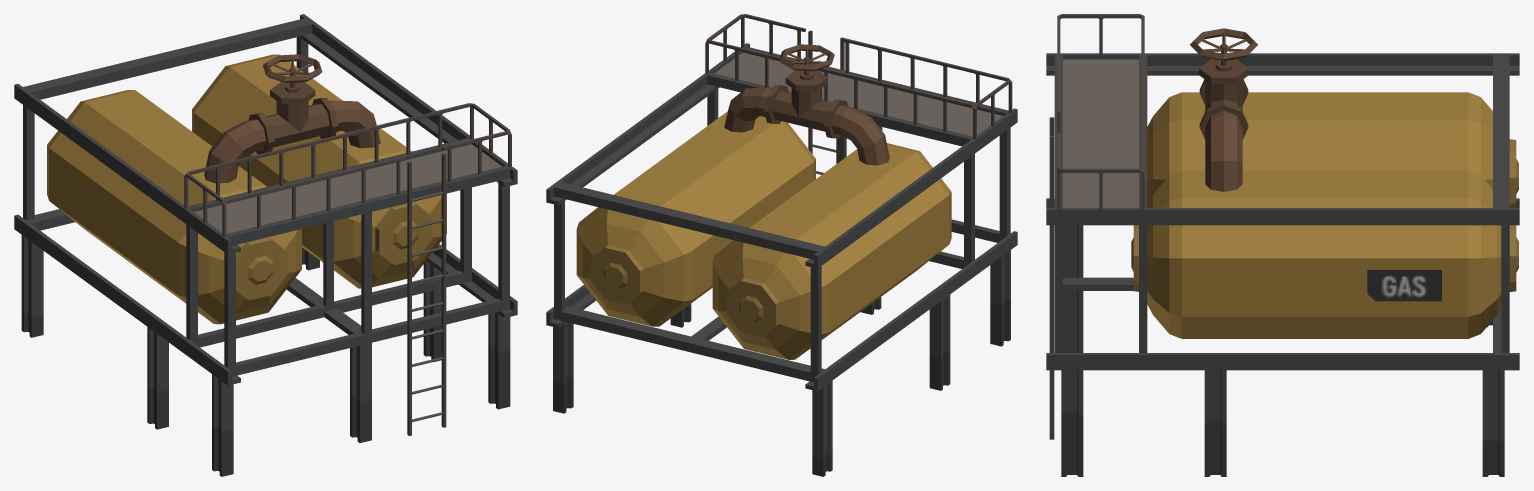
File: SM_Props_Industrial_GasTank_05.fbx
The picture shows the model from 3 angles, left to right: view 1: azimuth 30°, elevation 25°; view 2: azimuth 150°, elevation 25°; view 3: azimuth 270°, elevation 25°; orthographic projection. The views are drawn at different scales.
Parts seen in each view (by area): view 1: SM_Props_Industrial_GasTank_05; view 2: SM_Props_Industrial_GasTank_05; view 3: SM_Props_Industrial_GasTank_05.
Part boxes in pixels (x1,y1,x2,y2): SM_Props_Industrial_GasTank_05: (14, 14, 517, 476); SM_Props_Industrial_GasTank_05: (546, 14, 1017, 476); SM_Props_Industrial_GasTank_05: (1046, 14, 1519, 476).
Size of the model in its own units: 440 by 469 by 562.
